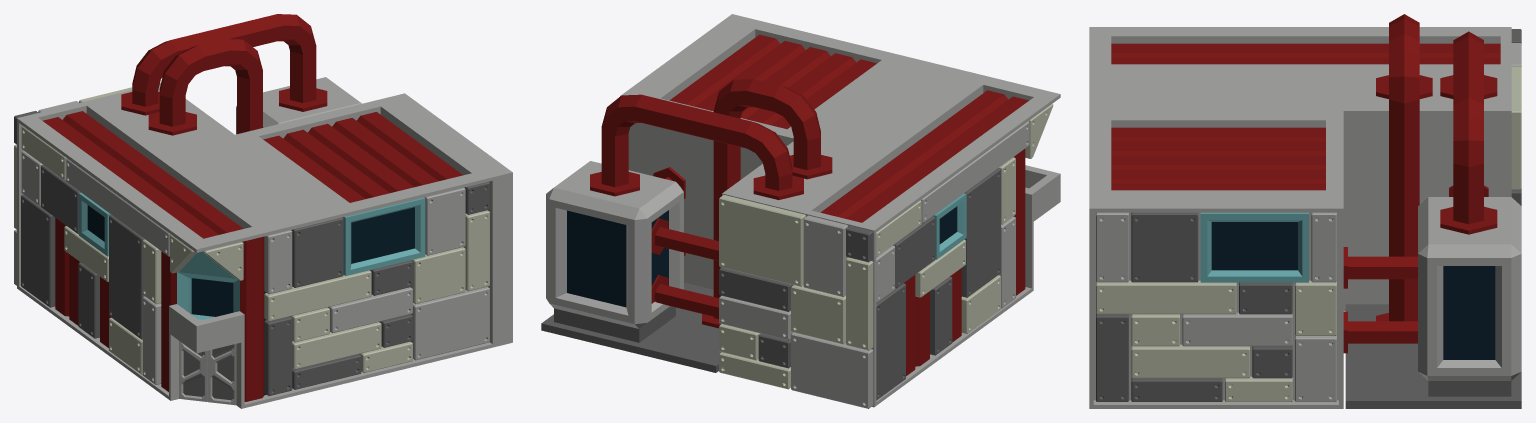
3 views of the same model, side by side, from view 1: azimuth 30°, elevation 25°; view 2: azimuth 150°, elevation 25°; view 3: azimuth 270°, elevation 25° (orthographic). The views are drawn at different scales.
Parts seen in each view (by area): view 1: H_10x10x5; view 2: H_10x10x5; view 3: H_10x10x5.
Boxes of the visible parts, <box> form: H_10x10x5: <box>14,14,512,408</box>; H_10x10x5: <box>541,14,1060,408</box>; H_10x10x5: <box>1089,14,1521,408</box>.
Size of the model in its own units: 972 by 715 by 978.
